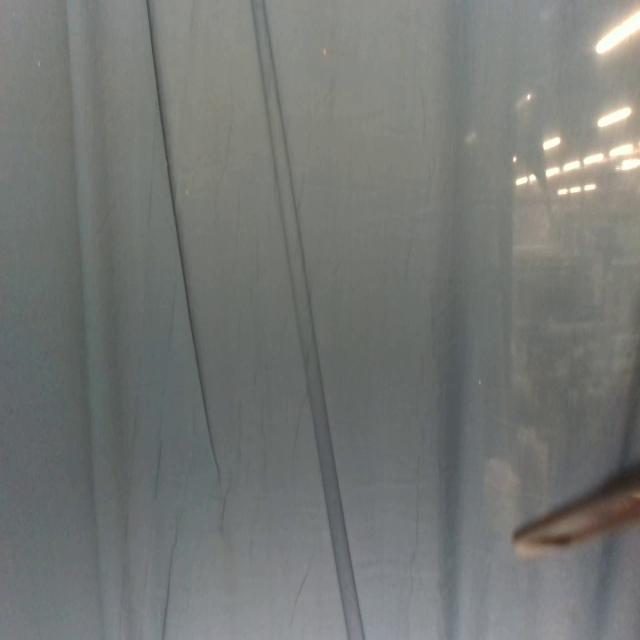crease: (251, 0, 367, 640), (146, 0, 224, 479), (160, 536, 178, 640)
